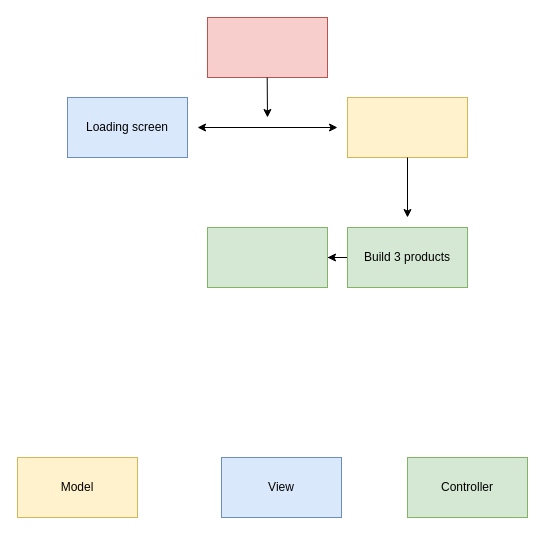
Image size: 545x535. Some labels were removed from this diagram. The box of each missing label's shape, as (x1, y1, x2, y2) in pixels:
Ask for 3 products: (346, 96, 468, 158)
ENTRYPOINT: (206, 16, 328, 78)
Remove loading: (206, 226, 328, 288)
